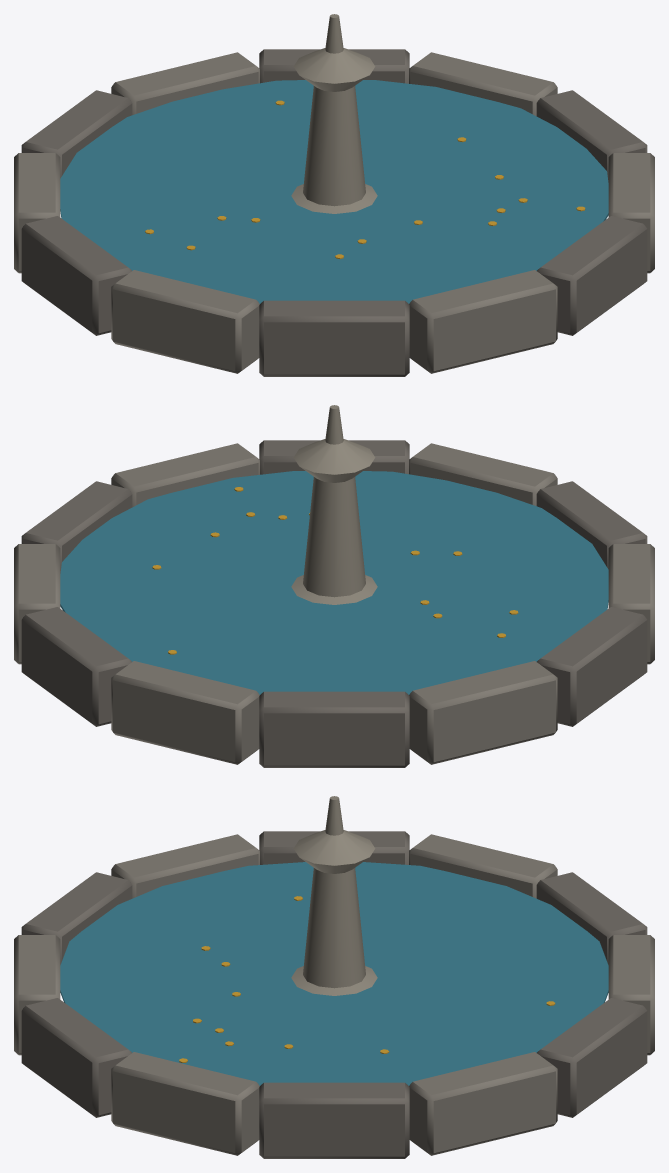
Rendered from well_block.glb.
3 renders of one model, top to bottom at view 1: azimuth 30°, elevation 25°; view 2: azimuth 150°, elevation 25°; view 3: azimuth 270°, elevation 25°, orthographic.
Visible parts, largest first — view 1: well; view 2: well; view 3: well.
Boxes of the visible parts, x1=… form: well: x1=14, y1=14, x2=654, y2=376; well: x1=14, y1=405, x2=654, y2=767; well: x1=14, y1=796, x2=654, y2=1158.
Size of the model in its own units: 6.9 by 2.7 by 6.9.
